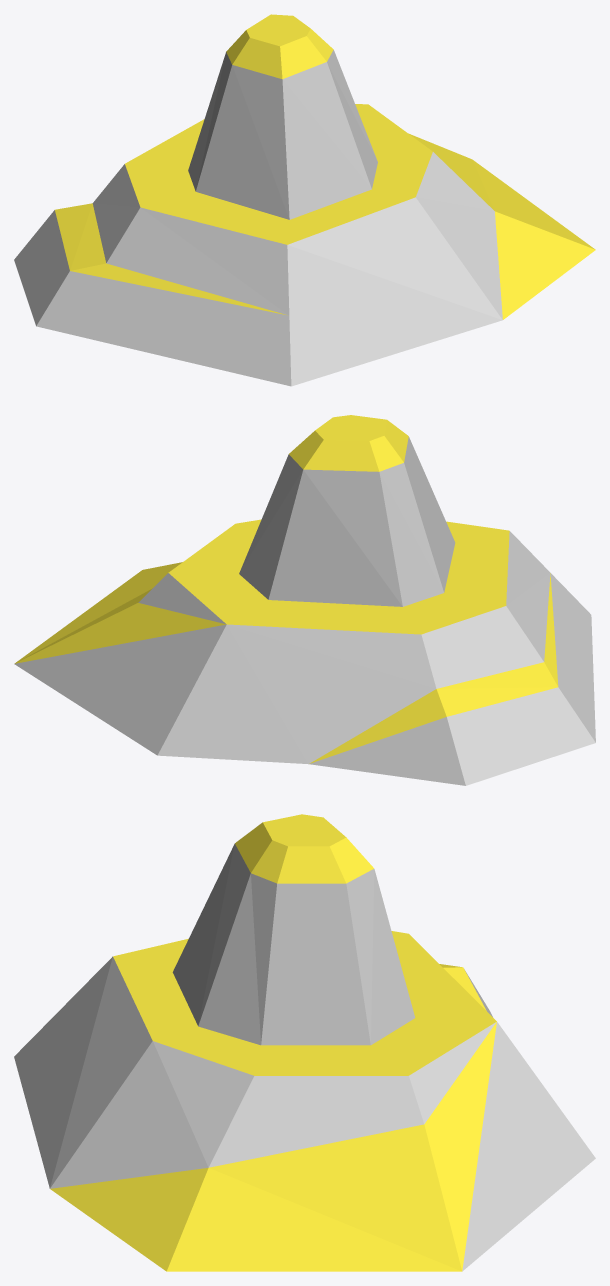
File: mountain1.fbx
The picture shows the model from 3 angles, top to bottom: view 1: azimuth 30°, elevation 25°; view 2: azimuth 150°, elevation 25°; view 3: azimuth 270°, elevation 25°; orthographic projection. The views are drawn at different scales.
Parts seen in each view (by area): view 1: mountain1; view 2: mountain1; view 3: mountain1.
Boxes of the visible parts, x1=… form: mountain1: x1=14, y1=14, x2=595, y2=386; mountain1: x1=14, y1=415, x2=595, y2=785; mountain1: x1=14, y1=814, x2=595, y2=1271.
Size of the model in its own units: 3719 by 1721 by 3147.
